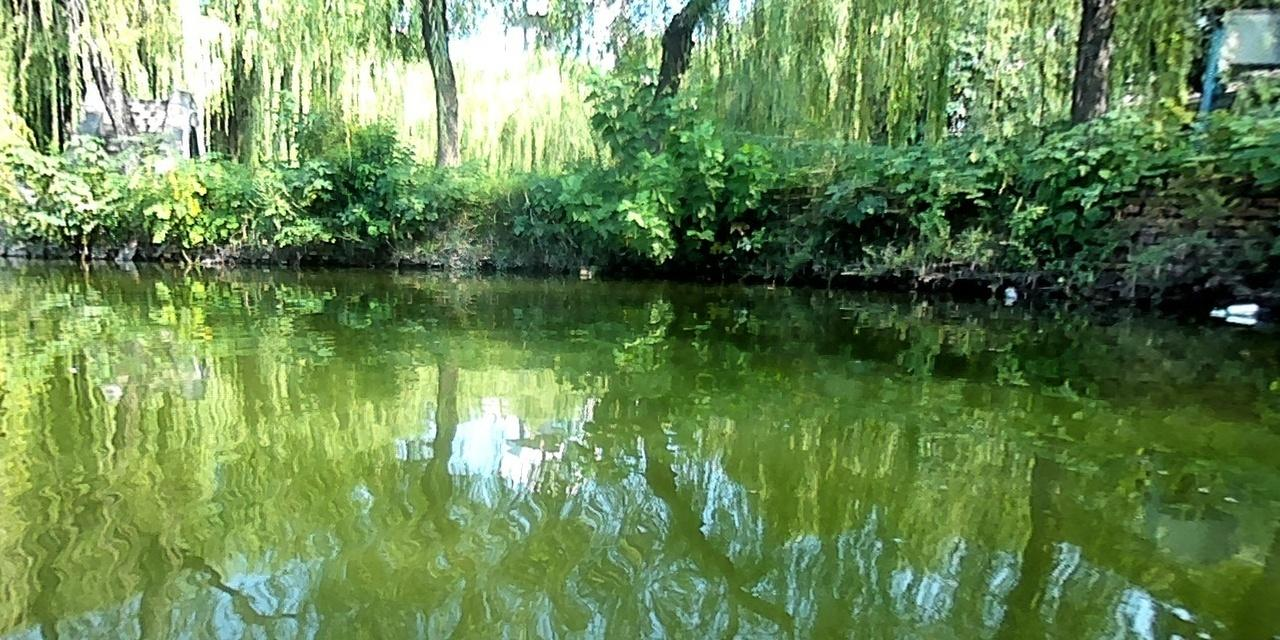bottle: (1210, 301, 1260, 315), (1004, 287, 1017, 300)
